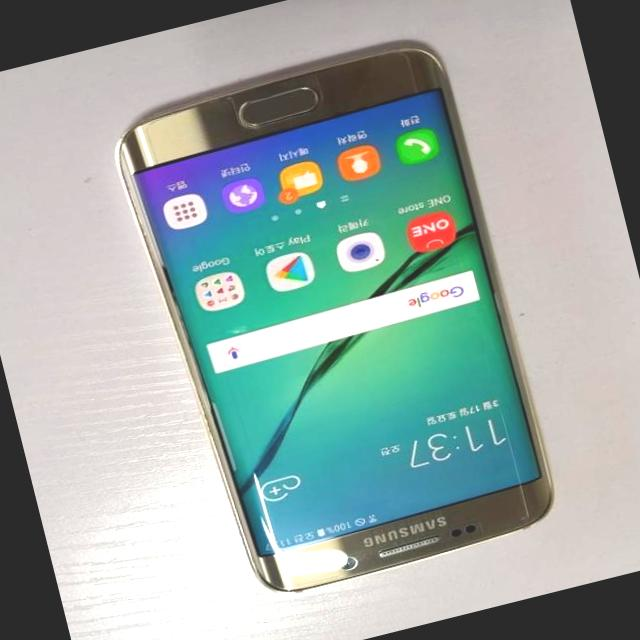phone: (108, 28, 568, 611)
